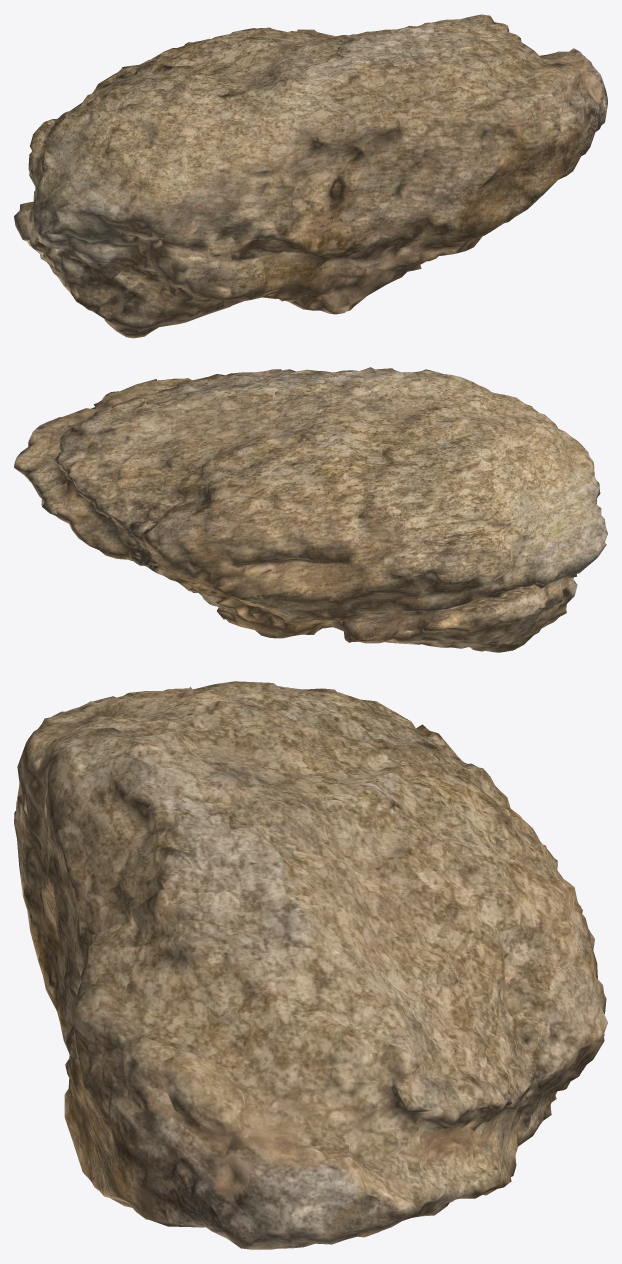
File: boulder_granite.glb
3 renders of one model, top to bottom at view 1: azimuth 30°, elevation 25°; view 2: azimuth 150°, elevation 25°; view 3: azimuth 270°, elevation 25°, orthographic. The views are drawn at different scales.
Visible parts, largest first — view 1: namaqualand_boulder_05; view 2: namaqualand_boulder_05; view 3: namaqualand_boulder_05.
Part boxes in pixels (<box>): namaqualand_boulder_05: <box>14,14,607,338</box>; namaqualand_boulder_05: <box>14,367,607,652</box>; namaqualand_boulder_05: <box>14,681,607,1249</box>.
Bounding box in the file's own units: 1.36 × 0.5339 × 0.7481.
Materials: 1 (1 with a texture image).
